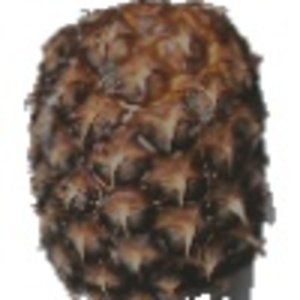abacaxi: (24, 1, 280, 298)
